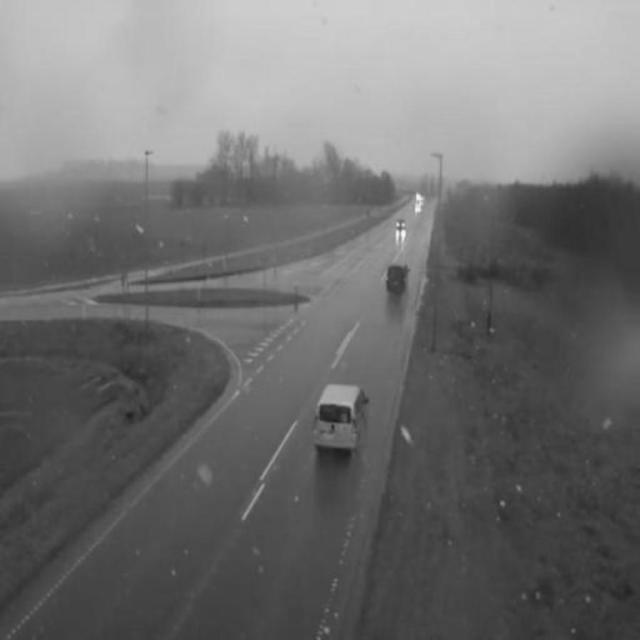vehicle: (316, 381, 370, 451), (385, 262, 413, 300)
